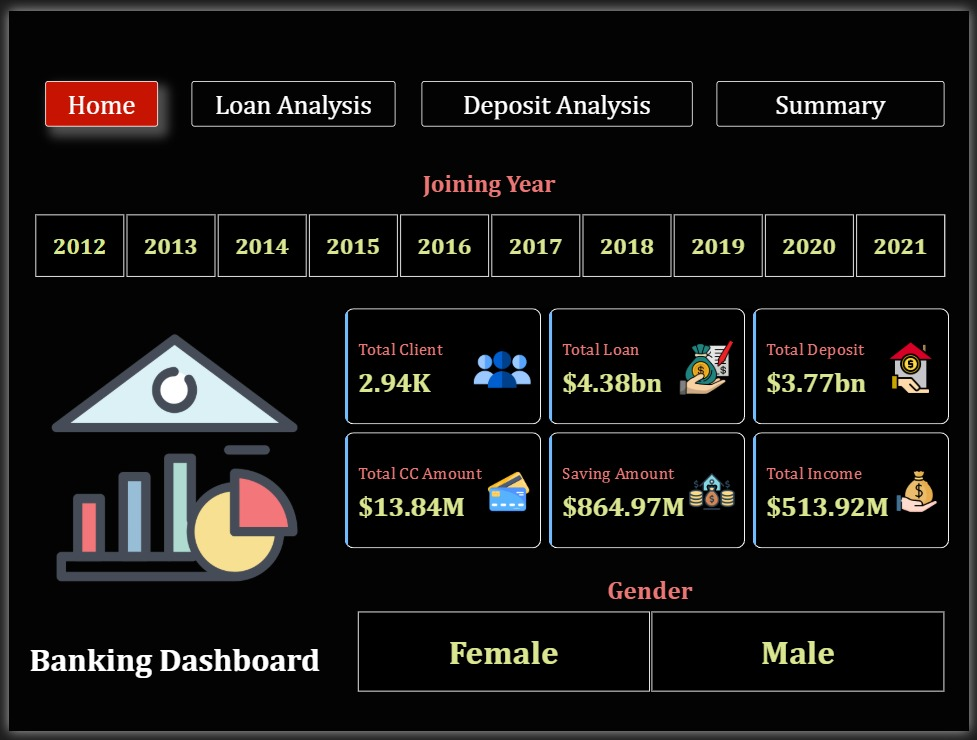

The dashboard page shown, as its layout file describes it:
{"tool":"powerbi","page":{"name":"Home","canvas":[960,720],"ordinal":0},"visuals":[{"type":"image","box":[0,292.5,331.2,308.8],"z":0},{"type":"textbox","box":[0,625.3,331.6,62],"z":1000},{"type":"textbox","box":[36.7,69.6,112.7,45.6],"z":2000},{"type":"textbox","box":[182.3,69.6,203.8,45.6],"z":3000},{"type":"textbox","box":[412.7,69.6,270.9,45.6],"z":4000},{"type":"textbox","box":[707.6,69.6,227.8,45.6],"z":5000},{"type":"textbox","box":[0,152.5,960,120],"z":6000},{"type":"slicer","fields":{"Values":["customer.Joined Bank.Variation.Date Hierarchy.Year"]},"box":[0,196.2,960,76.2],"z":7000},{"type":"slicer","title":"Gender","fields":{"Values":["customer.Gender"]},"box":[322.8,563.3,636.7,124.1],"z":14000},{"type":"actionButton","box":[36.2,70,112.2,45.8],"z":15000},{"type":"actionButton","box":[182.2,70,203.9,45.8],"z":16000},{"type":"actionButton","box":[412.6,70,271.4,45.8],"z":17000},{"type":"actionButton","box":[708.2,70,228,45.8],"z":18000},{"type":"cardVisual","fields":{"Data":["Count(customer.Client ID)","customer.Total Loan","customer.Total Deposit","Sum(customer.Total CC Amount)","Sum(customer.TotalSavingAmount)","Sum(customer.Estimated Income)"]},"box":[331.2,292.5,615,250],"z":18001}]}

Visuals, with their boxes in screenshot pixels (x1, y1, x2, y2), scaled from the page's 960x720 canvas onto the 977x740 screenshot:
image: x1=0 y1=301 x2=337 y2=618
textbox: x1=0 y1=643 x2=337 y2=706
textbox: x1=37 y1=72 x2=152 y2=118
textbox: x1=186 y1=72 x2=393 y2=118
textbox: x1=420 y1=72 x2=696 y2=118
textbox: x1=720 y1=72 x2=952 y2=118
textbox: x1=0 y1=157 x2=976 y2=280
slicer - customer.Joined Bank.Variation.Date Hierarchy.Year: x1=0 y1=202 x2=976 y2=280
"Gender" slicer: x1=329 y1=579 x2=976 y2=706
actionButton: x1=37 y1=72 x2=151 y2=119
actionButton: x1=185 y1=72 x2=393 y2=119
actionButton: x1=420 y1=72 x2=696 y2=119
actionButton: x1=721 y1=72 x2=953 y2=119
cardVisual - Count(customer.Client ID) x customer.Total Loan: x1=337 y1=301 x2=963 y2=558
